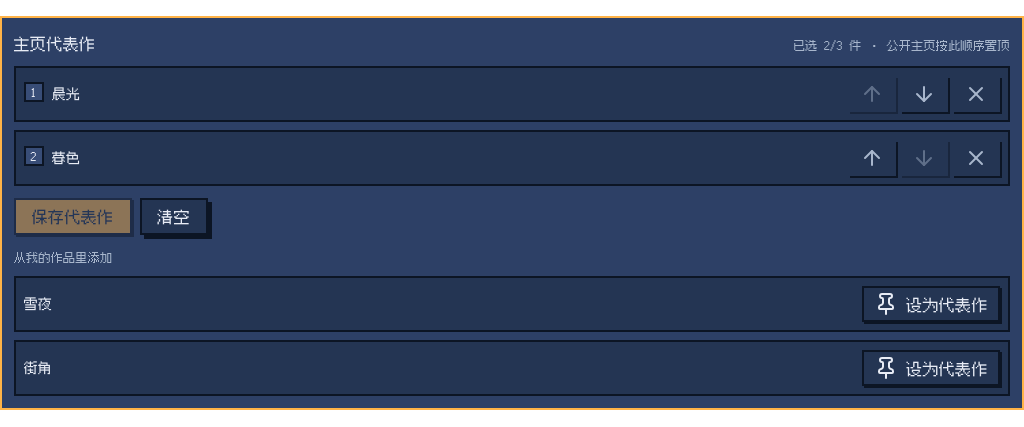
Test: PinnedWorksPicker（/me） › 上移下移改变顺序后保存，按新顺序提交
The image size is (1024, 427).
Click the button named "把「暮色」上移" at (872, 158), box [848,140,896,176]
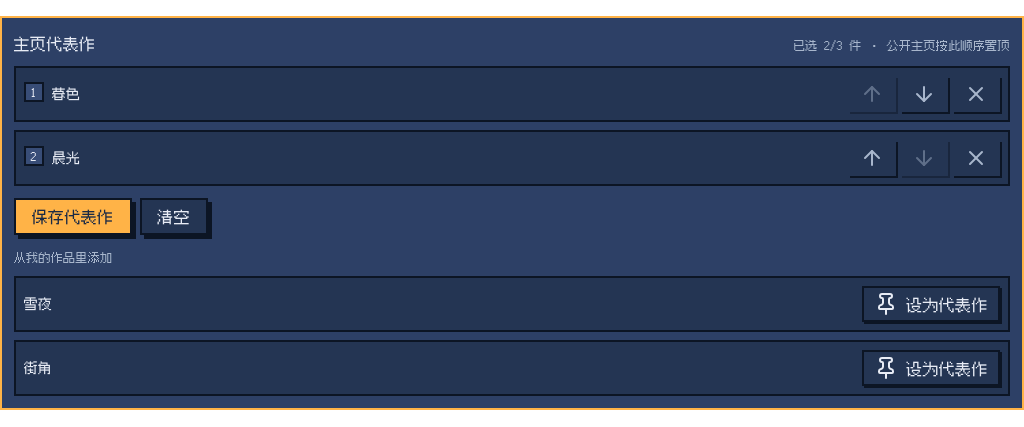
Click the button "保存代表作" at (73, 217), box [14,198,132,235]
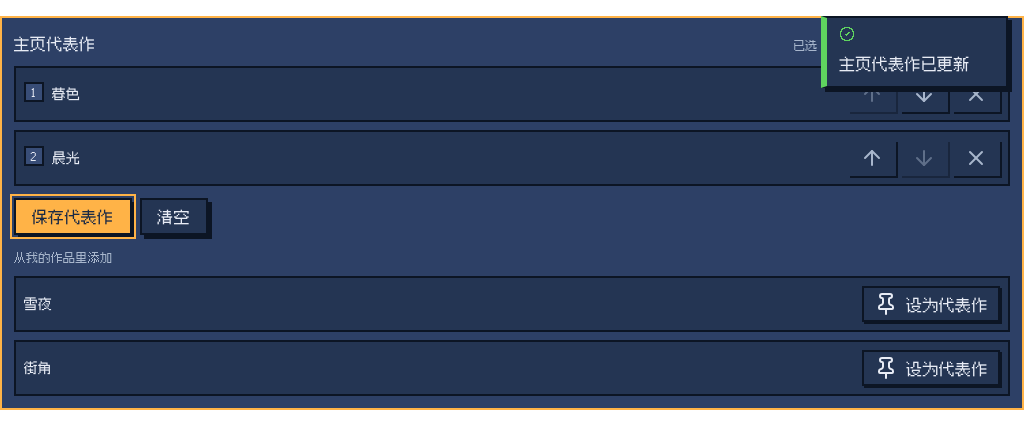
Expected: the message reads "主页代表作已更新", [839,53,970,74]
